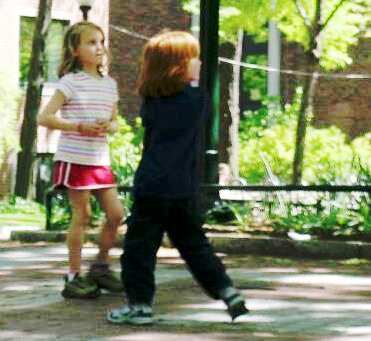person: (108, 26, 256, 322), (35, 20, 126, 301)
